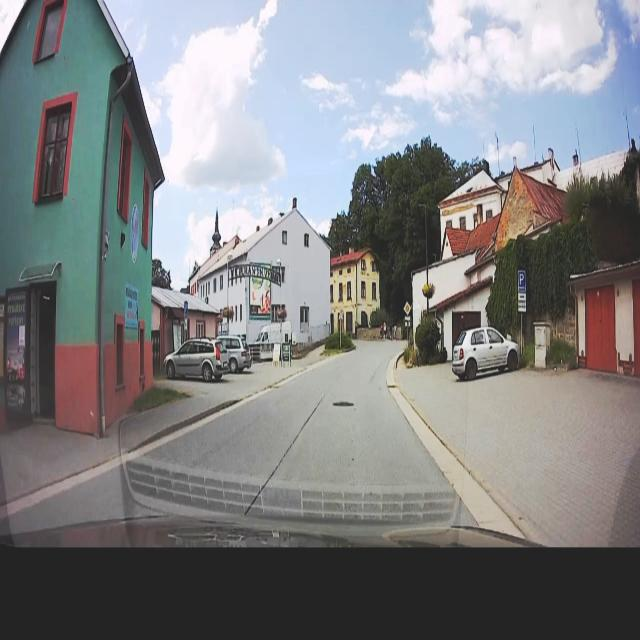Priority road: (403, 301, 412, 316)
